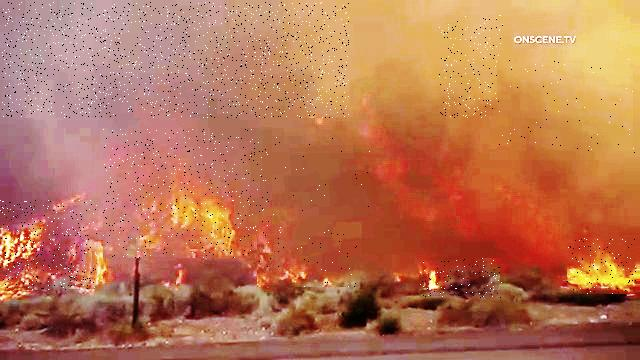fire: (103, 129, 269, 258), (0, 200, 97, 290), (258, 227, 359, 287), (568, 237, 640, 294), (420, 258, 504, 298)
smoke: (2, 2, 349, 118), (498, 58, 636, 154), (272, 135, 371, 221), (439, 16, 503, 119)
